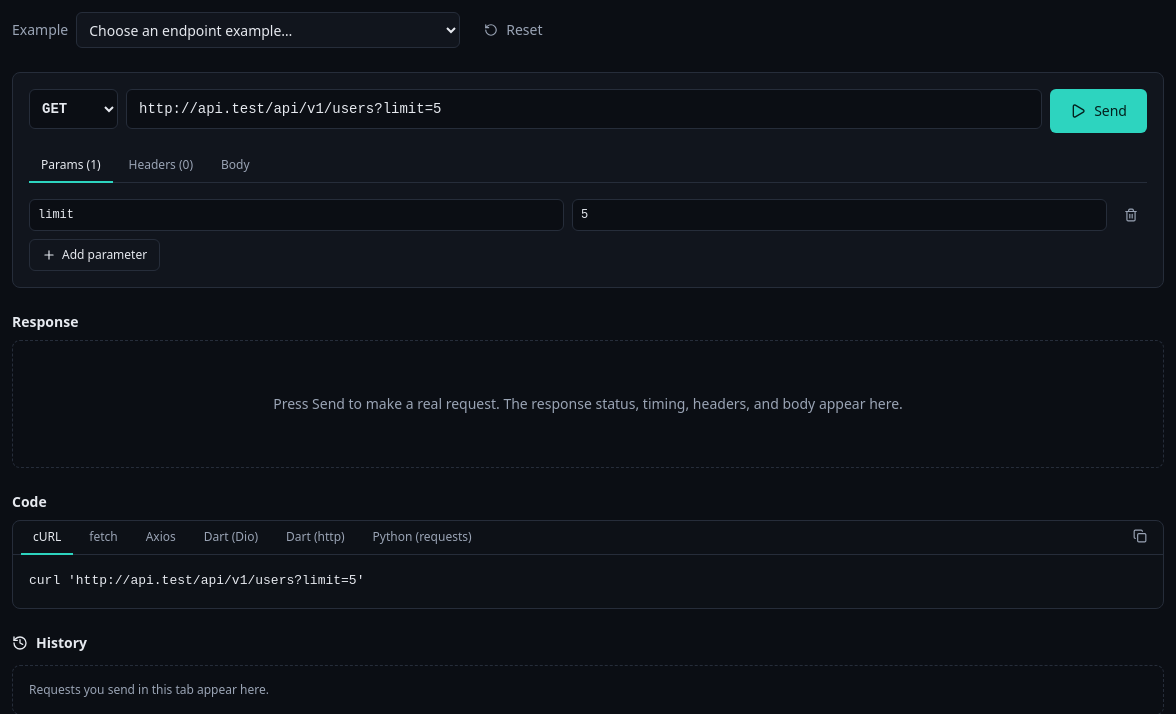
Playground › shows API error responses with their status
Click the button "Send" at (1099, 111), box [1050,89,1147,133]
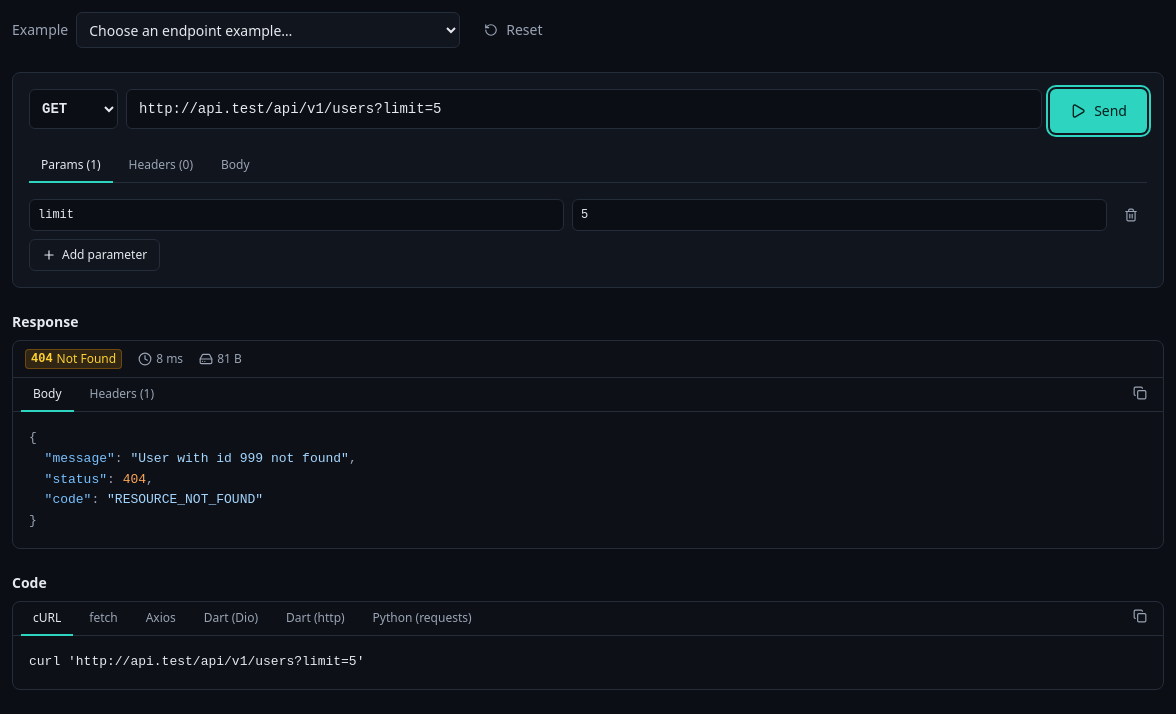
Check: the text "\"RESOURCE_NOT_FOUND\"" is shown, box [107,492,263,507]
Check: the text "404" is shown, box [31,352,53,366]
